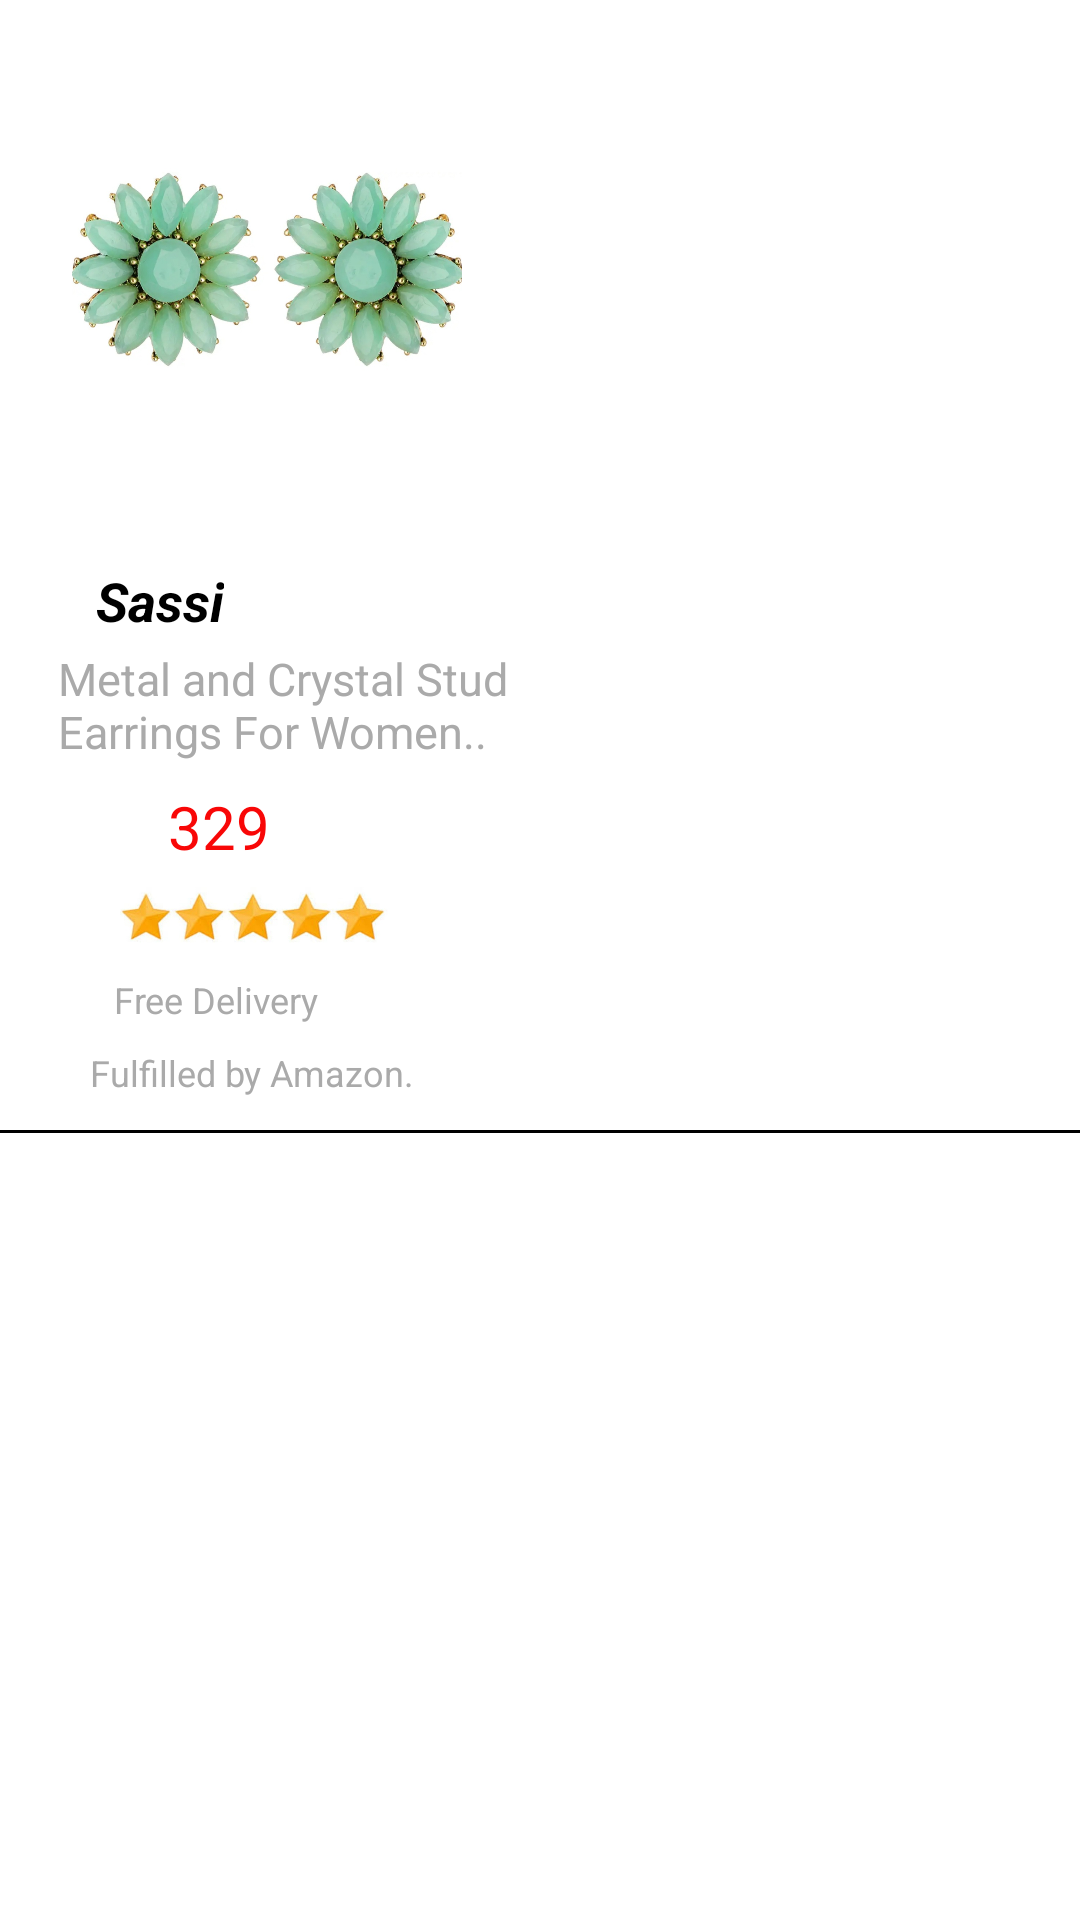

Icon bounding boxes for this 1080×1920 phone screenshot, format box(x1, y1, x2, y2):
star: box(122, 893, 384, 940)
